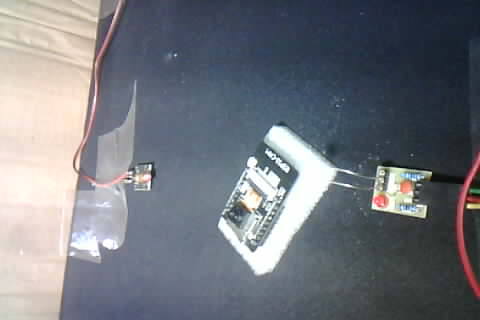esp32: (213, 125, 317, 273)
